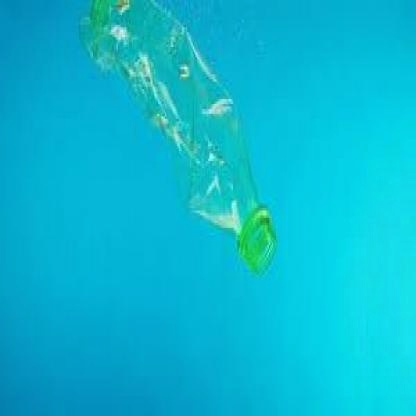pbottle: (74, 2, 280, 275)
